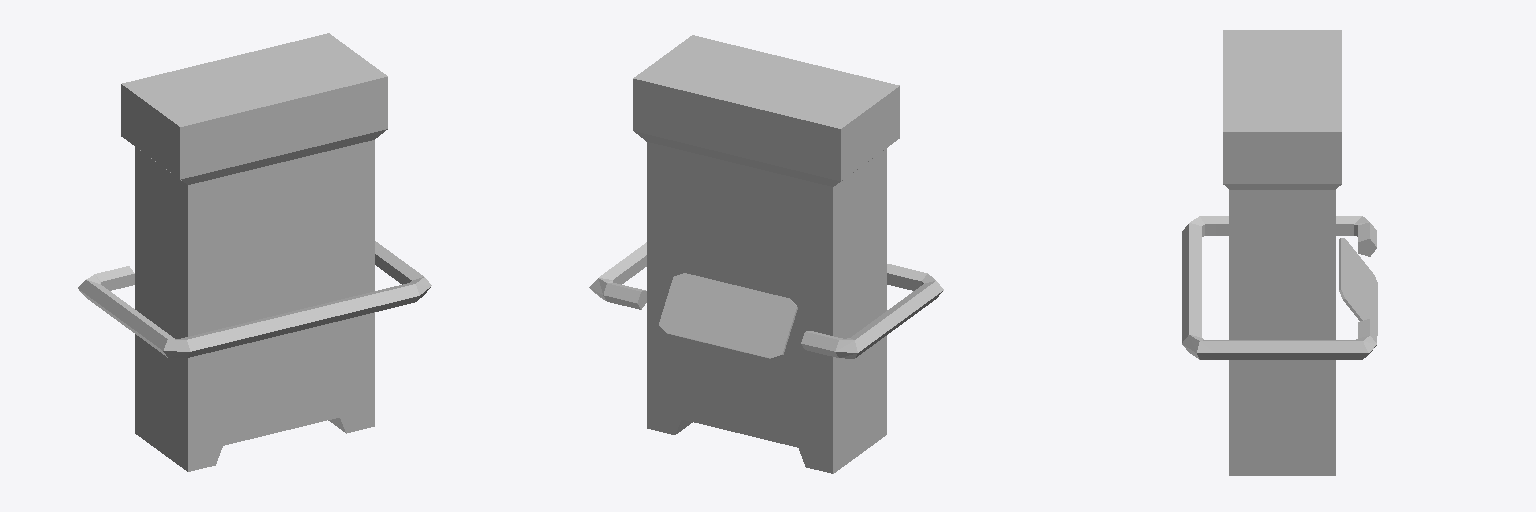
File: microwave oven.obj
The picture shows the model from 3 angles: view 1: azimuth 30°, elevation 25°; view 2: azimuth 150°, elevation 25°; view 3: azimuth 270°, elevation 25°; orthographic projection.
Visible parts, largest first — view 1: group2 pCube11, pCylinder3 group2; view 2: group2 pCube11, group2 pCube12, pCylinder3 group2; view 3: group2 pCube11, pCylinder3 group2, group2 pCube12.
Boxes of the visible parts, <box> form: group2 pCube11: <box>121,33,387,471</box>; pCylinder3 group2: <box>78,241,431,357</box>; group2 pCube11: <box>633,35,899,473</box>; group2 pCube12: <box>659,273,797,358</box>; pCylinder3 group2: <box>589,242,943,358</box>; group2 pCube11: <box>1223,30,1341,475</box>; pCylinder3 group2: <box>1182,216,1376,359</box>; group2 pCube12: <box>1339,238,1377,335</box>.
Bounding box in the file's own units: 9.29 × 11.55 × 5.89.